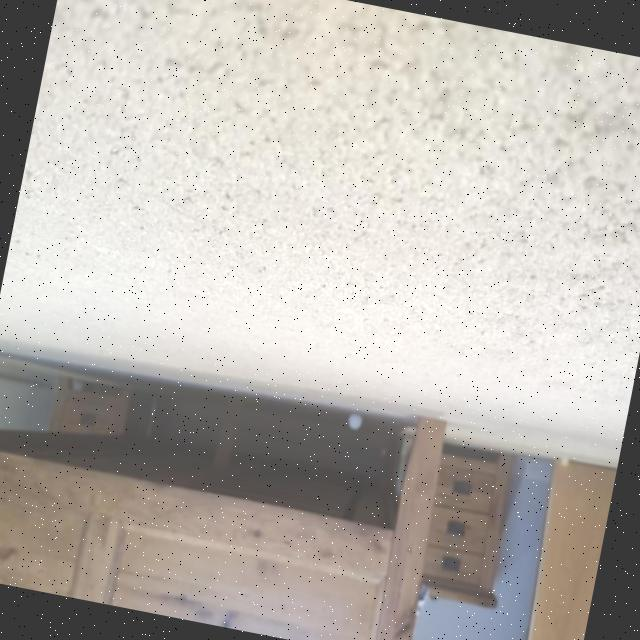ping-pong-ball: (343, 408, 365, 433)
